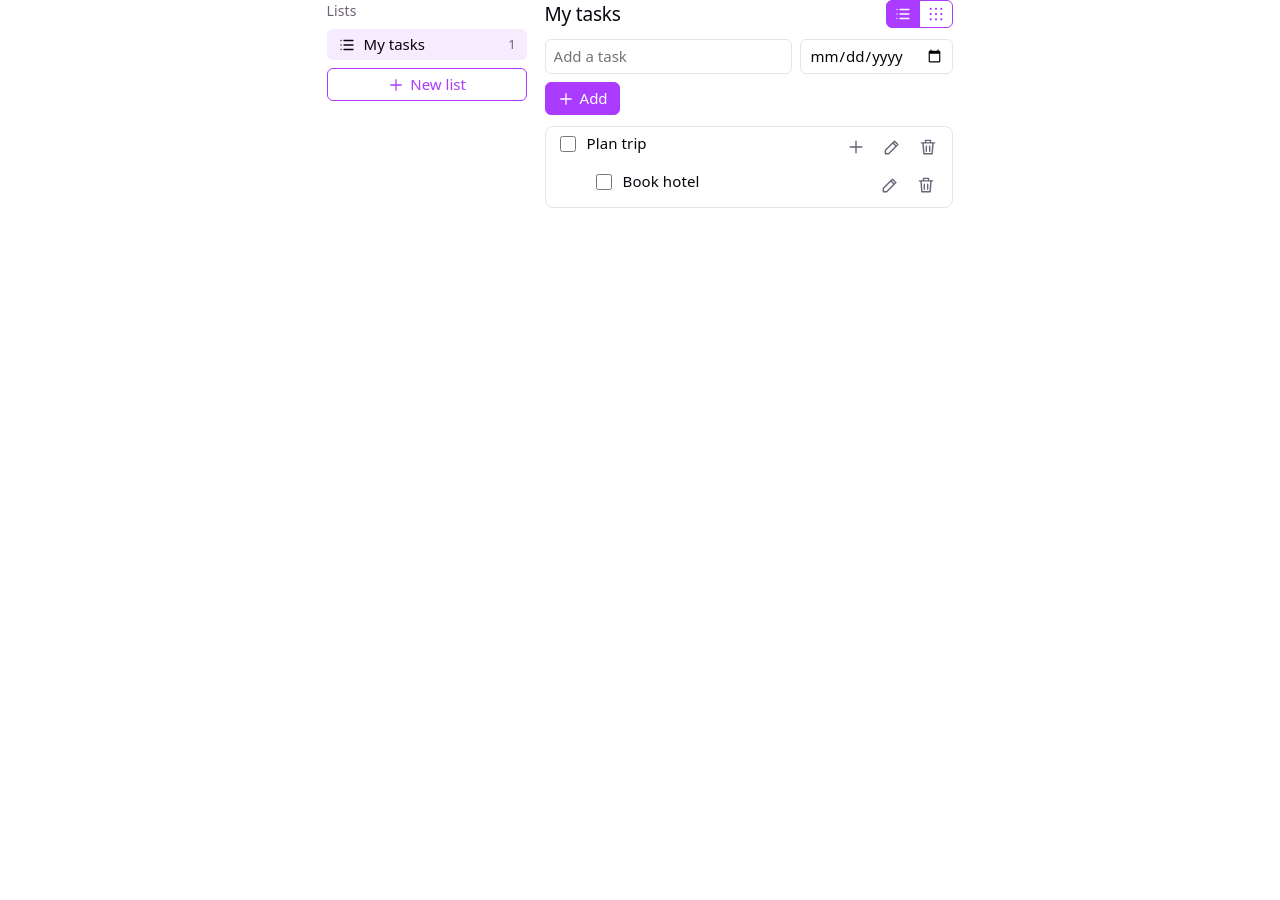
Test case: Tasks: subtasks and repeats › warns that deleting a task deletes its subtasks
What coordinates should you click on to do the following:
click the button named "Delete “Plan trip”"
I would click on:
 (928, 147)
Its box is [914,133,942,161].
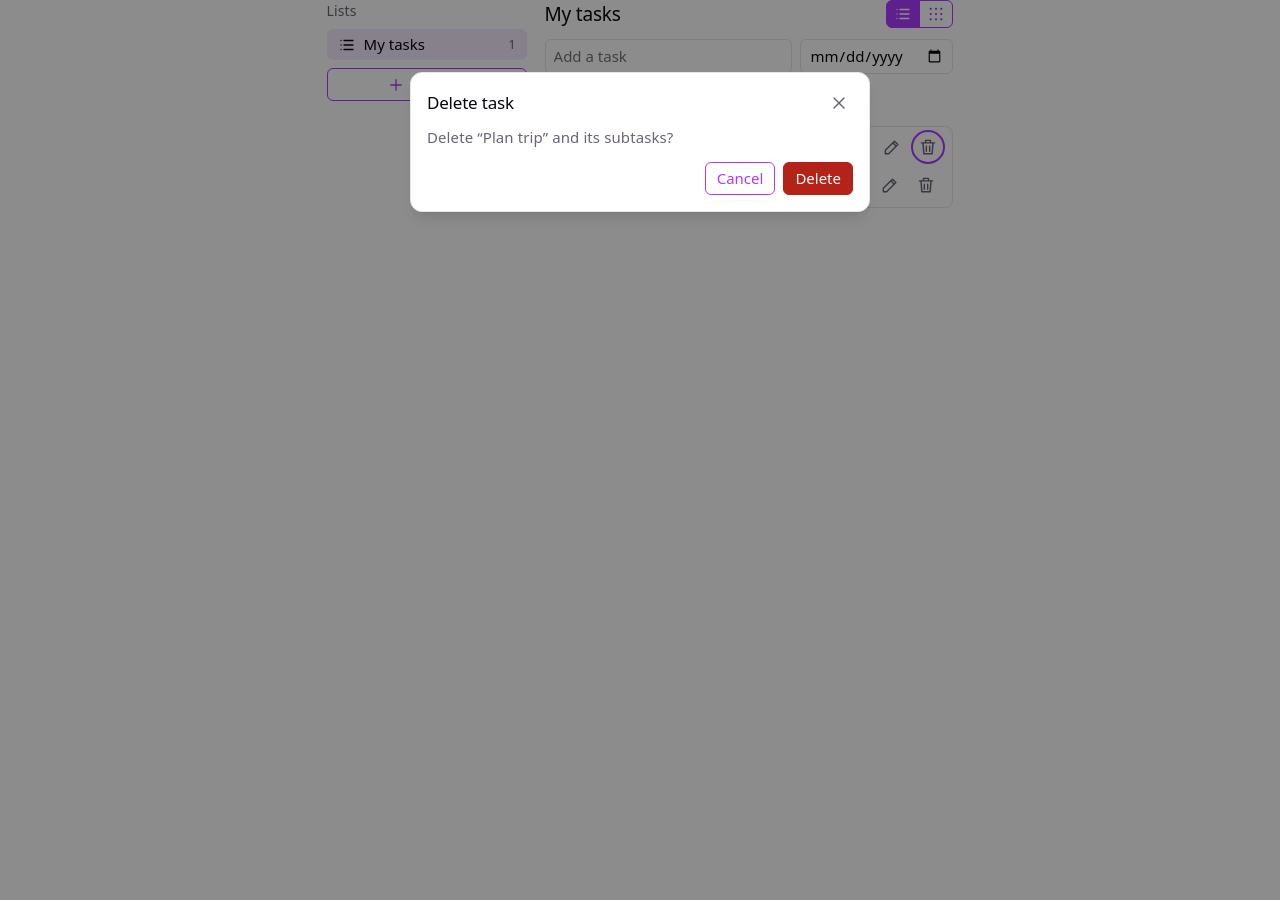
Result: the dialog shows "Delete “Plan trip” and its subtasks?" at [427,127,674,147]
